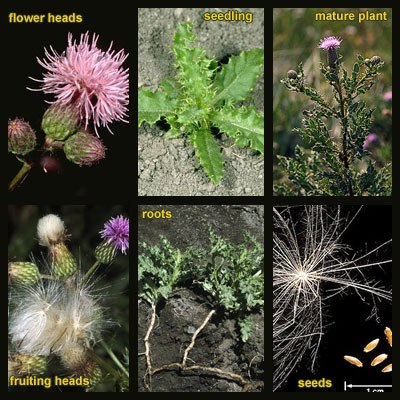thistle: (32, 34, 126, 139), (94, 215, 129, 265), (314, 33, 345, 69)
